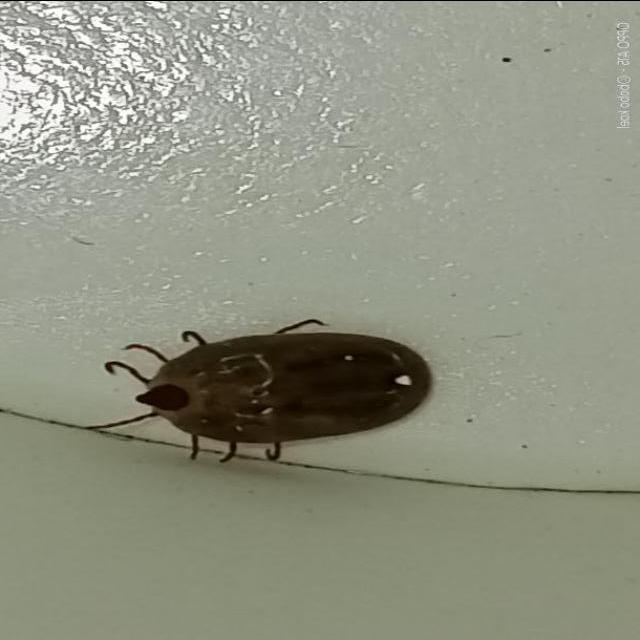Rhipicephalus Sanguineus-F-Fed: (85, 312, 432, 463)
